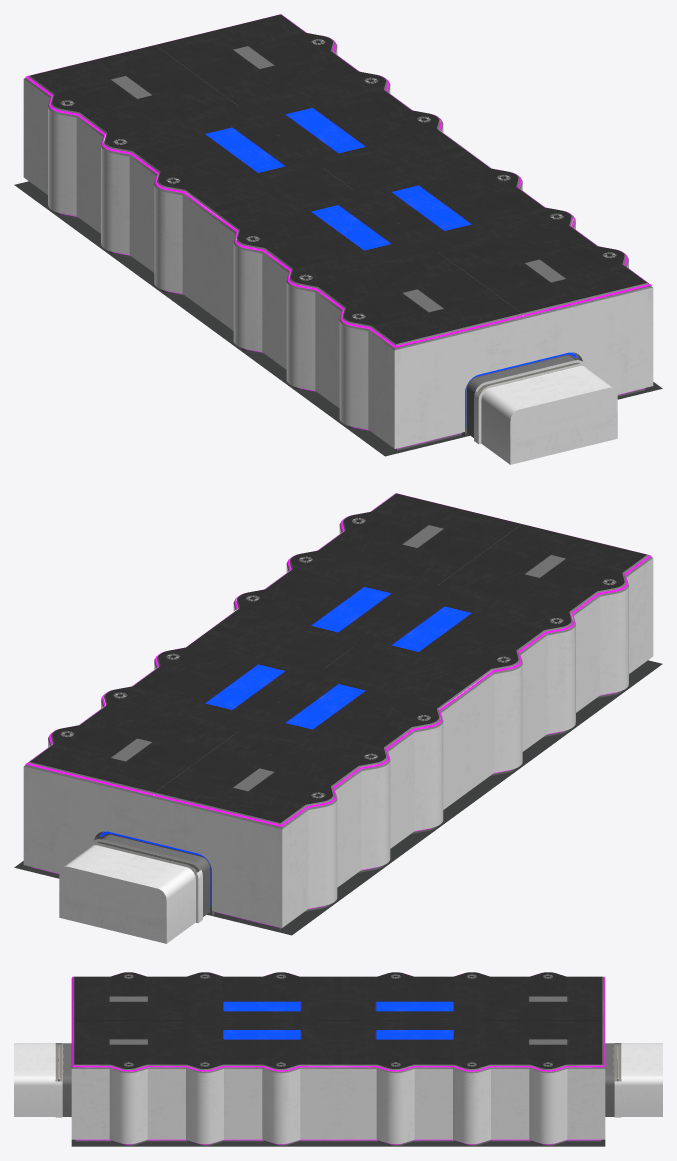
The model's file is virtual_studio.glb.
3 renders of one model, top to bottom at view 1: azimuth 30°, elevation 25°; view 2: azimuth 150°, elevation 25°; view 3: azimuth 270°, elevation 25°, orthographic. The views are drawn at different scales.
Visible parts, largest first — view 1: Cube, Cube.001; view 2: Cube, Cube.001; view 3: Cube, Cube.001.
Boxes of the visible parts, box(x1,y1,x2,y2) form: Cube: box(23, 14, 653, 464); Cube.001: box(14, 181, 662, 456); Cube: box(23, 493, 653, 943); Cube.001: box(14, 660, 662, 935); Cube: box(14, 972, 662, 1145); Cube.001: box(55, 1079, 621, 1146).
Bounding box in the file's own units: 11.03 × 4.02 × 30.38.
Materials: 3 (3 with a texture image).
